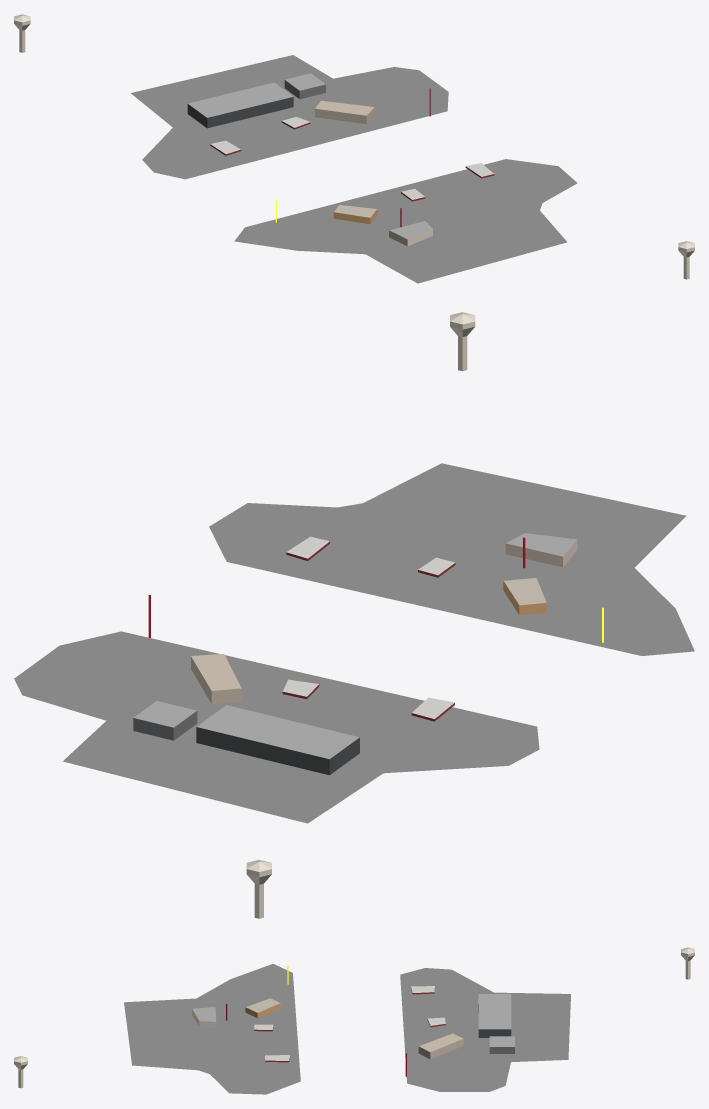
Rendered from bhera_service_area_far.glb.
The picture shows the model from 3 angles, top to bottom: view 1: azimuth 30°, elevation 25°; view 2: azimuth 150°, elevation 25°; view 3: azimuth 270°, elevation 25°; orthographic projection. The views are drawn at different scales.
Parts seen in each view (by area): view 1: m_apron, m_roof_grey, m_wall_charcoal, m_wall_cream, m_canopy_white, m_water_tower; view 2: m_apron, m_roof_grey, m_wall_charcoal, m_wall_cream, m_canopy_white, m_water_tower; view 3: m_apron, m_roof_grey, m_wall_cream, m_canopy_white, m_water_tower, m_wall_charcoal, m_roof_pale.
Part boxes in pixels (bbox=[...]): m_apron: bbox=[131, 55, 577, 283]; m_roof_grey: bbox=[188, 73, 432, 239]; m_wall_charcoal: bbox=[187, 97, 293, 128]; m_wall_cream: bbox=[315, 100, 374, 124]; m_canopy_white: bbox=[210, 117, 493, 199]; m_water_tower: bbox=[14, 14, 694, 279]; m_apron: bbox=[14, 463, 694, 823]; m_roof_grey: bbox=[133, 533, 576, 759]; m_wall_charcoal: bbox=[196, 727, 359, 775]; m_wall_cream: bbox=[191, 654, 241, 703]; m_canopy_white: bbox=[283, 536, 455, 718]; m_water_tower: bbox=[246, 312, 475, 918]; m_apron: bbox=[124, 963, 570, 1094]; m_roof_grey: bbox=[192, 994, 514, 1046]; m_wall_cream: bbox=[418, 1033, 463, 1059]; m_canopy_white: bbox=[254, 986, 445, 1060]; m_water_tower: bbox=[14, 947, 694, 1088]; m_wall_charcoal: bbox=[478, 1004, 511, 1037]; m_roof_pale: bbox=[245, 998, 280, 1012].
Size of the model in its own units: 255 by 27.31 by 560.
